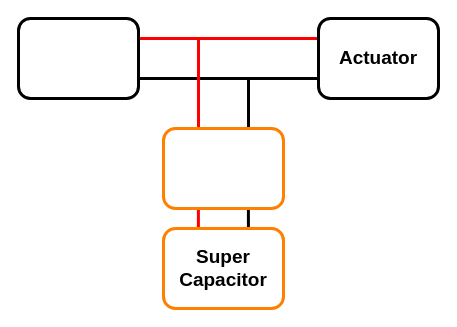
The diagram is 457 pixels wide and 327 high, and some of its shapes have lost their labels. The centre of each missing label's shape, as x and y in pixels:
Power Source: pixel 78 58
Regulator: pixel 223 168
